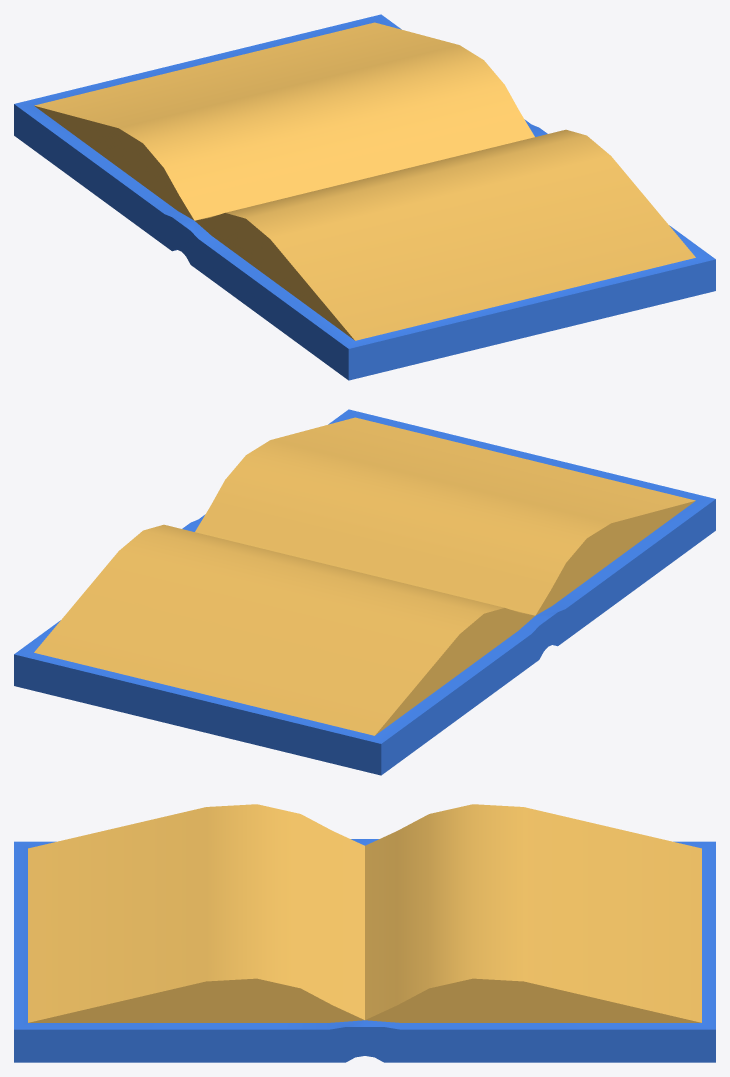
The model's file is Book_Open_01.glb.
3 views of the same model, one above another, from view 1: azimuth 30°, elevation 25°; view 2: azimuth 150°, elevation 25°; view 3: azimuth 270°, elevation 25° (orthographic). The views are drawn at different scales.
Parts seen in each view (by area): view 1: Book_Open_01; view 2: Book_Open_01; view 3: Book_Open_01.
Boxes of the visible parts, box(x1,y1,x2,y2) form: Book_Open_01: box(14, 14, 715, 380); Book_Open_01: box(14, 409, 715, 775); Book_Open_01: box(14, 804, 715, 1062).
Bounding box in the file's own units: 0.3166 × 0.0609 × 0.4999.
Materials: 1 (1 with a texture image).
